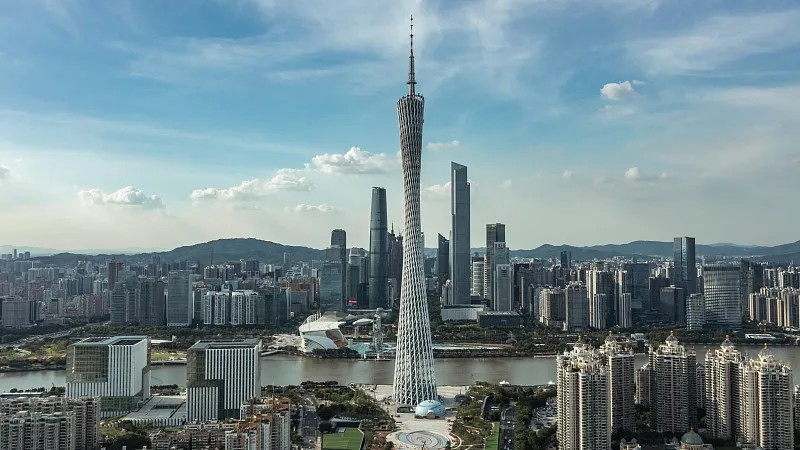Canton: (392, 14, 440, 402)
